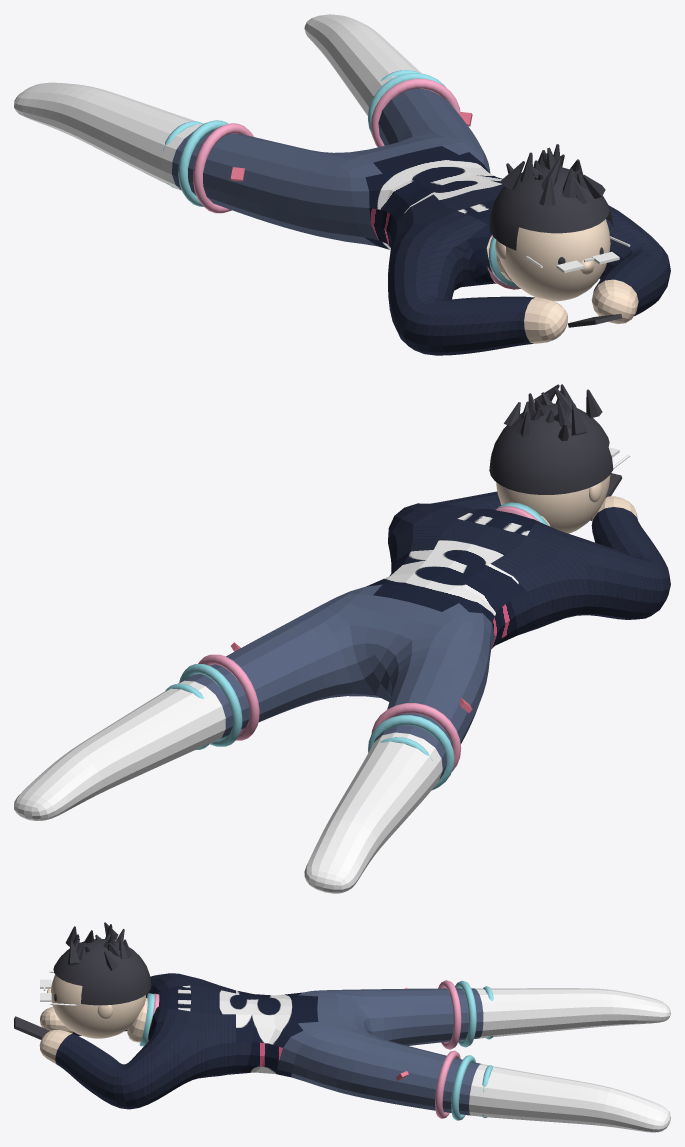
File: wu3d-pazi.glb
3 renders of one model, top to bottom at view 1: azimuth 30°, elevation 25°; view 2: azimuth 150°, elevation 25°; view 3: azimuth 270°, elevation 25°, orthographic. The views are drawn at different scales.
Visible parts, largest first — view 1: 身体, 头, 发帽, 短裤粉条-1, 短裤粉条1, 短裤青摆-1, 短裤青摆1; view 2: 身体, 发帽, 头, 短裤青摆-1, 短裤青摆1, 短裤粉条1, 短裤粉条-1; view 3: 身体, 发帽, 头, 短裤粉条-1, 短裤粉条1, 短裤青摆-1, 短裤青摆1, 手机, 领青边.
Part boxes in pixels (x1,y1,x2,y2): 身体: (14,14,670,355); 头: (496,219,610,301); 发帽: (489,166,613,250); 短裤粉条-1: (193,123,253,213); 短裤粉条1: (371,78,460,147); 短裤青摆-1: (178,120,228,206); 短裤青摆1: (368,73,445,134); 身体: (14,491,670,893); 发帽: (489,403,613,494); 头: (496,475,610,533); 短裤青摆-1: (368,715,454,790); 短裤青摆1: (179,664,242,746); 短裤粉条1: (198,654,259,740); 短裤粉条-1: (371,703,461,771); 身体: (39,973,670,1132); 发帽: (53,939,151,1005); 头: (51,974,145,1038); 短裤粉条-1: (438,980,461,1049); 短裤粉条1: (435,1050,460,1118); 短裤青摆-1: (455,980,476,1047); 短裤青摆1: (451,1055,475,1120); 手机: (14,1016,49,1039); 领青边: (139,993,154,1046).
Bounding box in the file's own units: 0.4373 × 0.2508 × 0.9787.
Materials: 15 (4 with a texture image).
